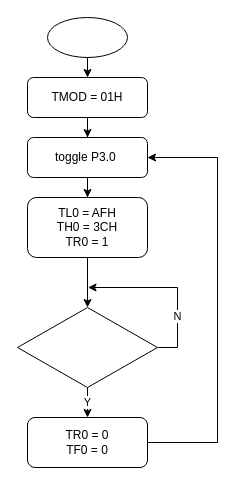
Some shapes in this 243 by 485 pixel diagram are drawn without their labels. The shapes that lost their labels are listed below. From the top down, each one's centre as x and y in pixels, then its label:
the point at 87,37: Start
the point at 87,347: TF0 == 1?
